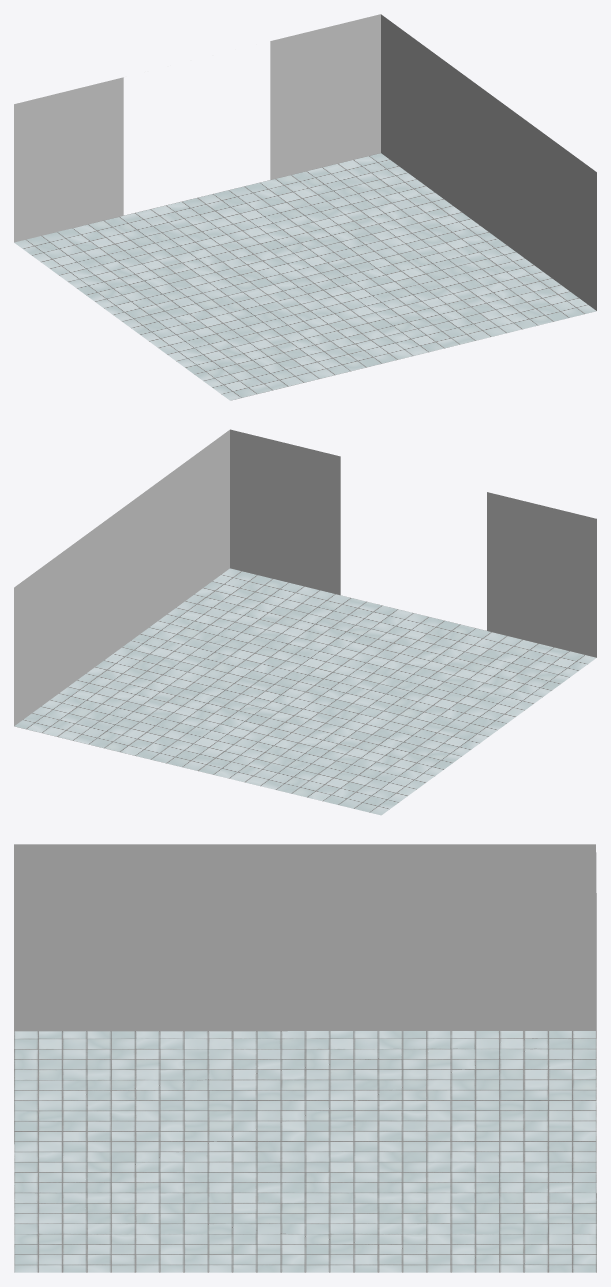
File: rz_room2_offices.glb
3 renders of one model, top to bottom at view 1: azimuth 30°, elevation 25°; view 2: azimuth 150°, elevation 25°; view 3: azimuth 270°, elevation 25°, orthographic. The views are drawn at different scales.
Parts seen in each view (by area): view 1: Cube.001; view 2: Cube.001; view 3: Cube.001.
Boxes of the visible parts, x1,y1,x2,y2 form: Cube.001: (14, 14, 596, 400); Cube.001: (14, 429, 596, 815); Cube.001: (14, 844, 596, 1272).
Bounding box in the file's own units: 20.09 × 7.26 × 20.49.
Materials: 3 (2 with a texture image).
